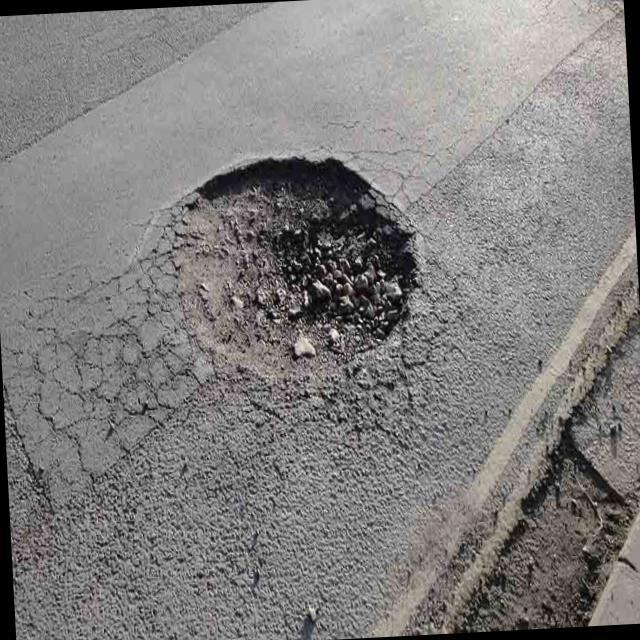Pothole: (140, 116, 450, 387), (340, 384, 640, 639)
